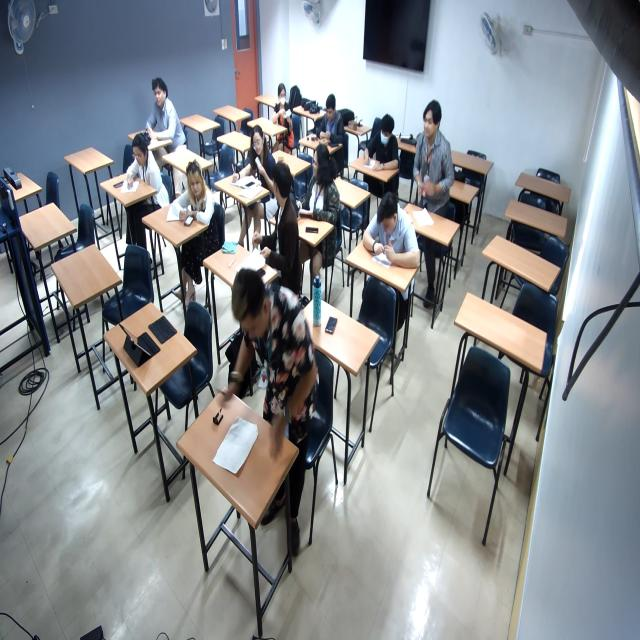read: (224, 125, 278, 199), (167, 161, 217, 238), (136, 73, 180, 145), (113, 136, 159, 197), (358, 116, 403, 178)
